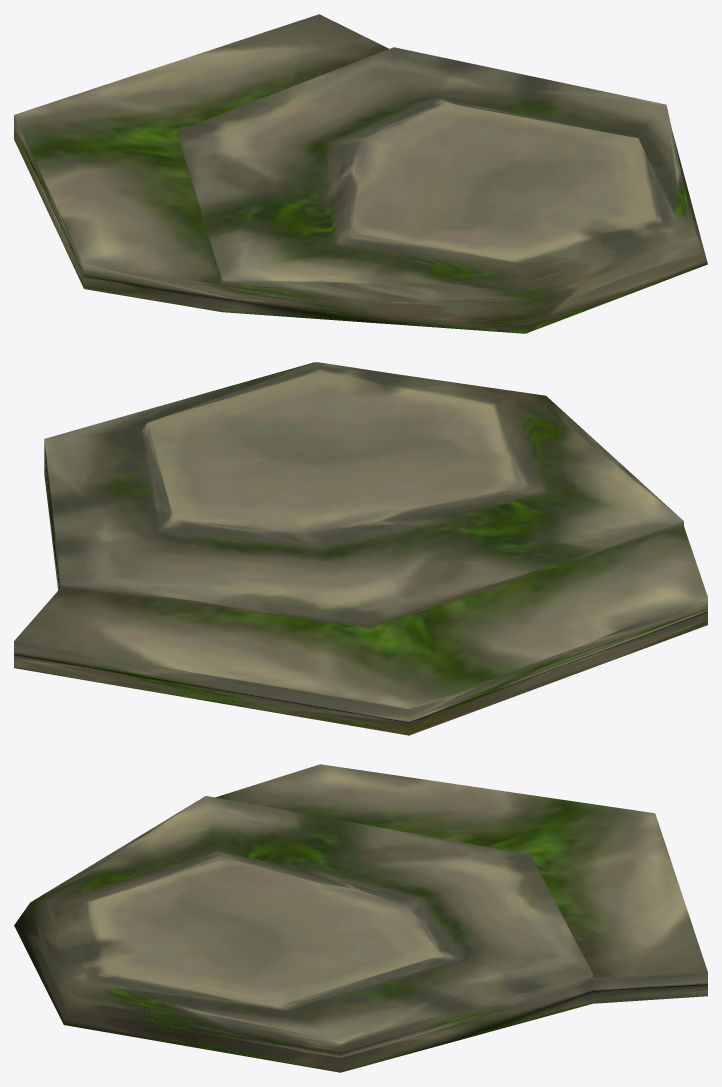
The model's file is RockFormation_4_5 (44).fbx.
3 views of the same model, one above another, from view 1: azimuth 30°, elevation 25°; view 2: azimuth 150°, elevation 25°; view 3: azimuth 270°, elevation 25° (orthographic). The views are drawn at different scales.
Visible parts, largest first — view 1: RockFormation_4_5 (44); view 2: RockFormation_4_5 (44); view 3: RockFormation_4_5 (44).
Part boxes in pixels (x1,y1,x2,y2): RockFormation_4_5 (44): [14, 14, 707, 333]; RockFormation_4_5 (44): [14, 362, 707, 735]; RockFormation_4_5 (44): [14, 764, 707, 1072].
Bounding box in the file's own units: 219 × 13.27 × 226.
